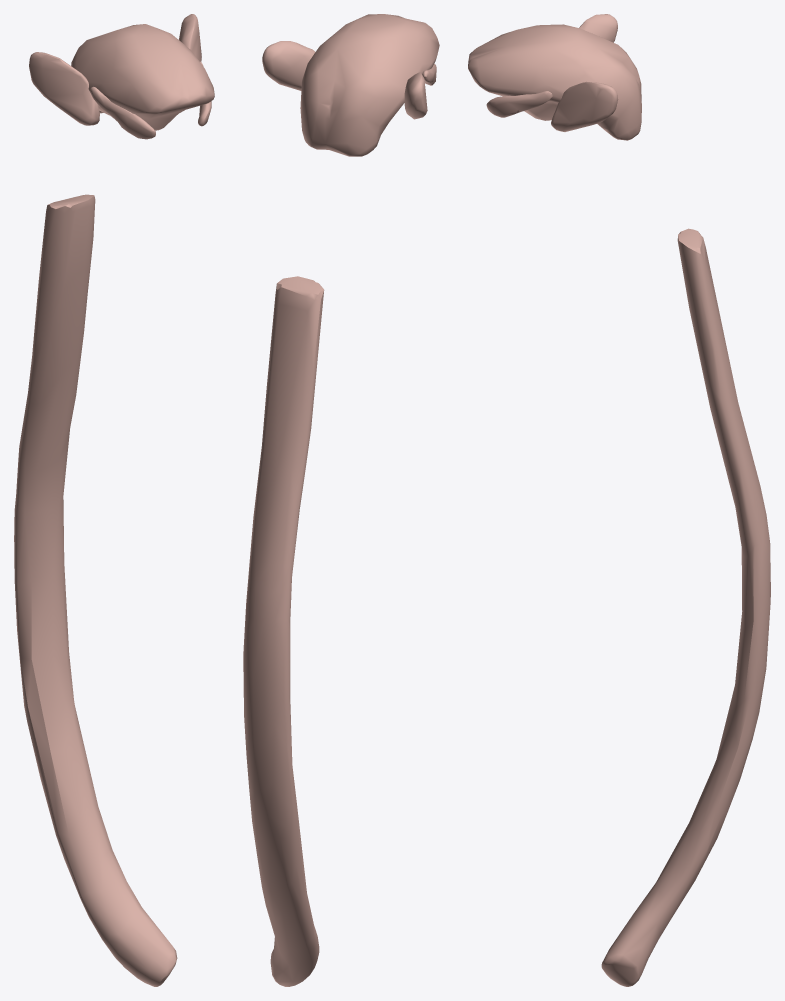
The model's file is upper.glb.
The picture shows the model from 3 angles, left to right: view 1: azimuth 30°, elevation 25°; view 2: azimuth 150°, elevation 25°; view 3: azimuth 270°, elevation 25°; orthographic projection. The views are drawn at different scales.
Parts seen in each view (by area): view 1: bp3d_FMA7131_FJ2563, bp3d_FMA54640_FJ2761, bp3d_FMA59802_FJ2768, bp3d_FMA59804_FJ2767, bp3d_FMA59803_FJ2766; view 2: bp3d_FMA7131_FJ2563, bp3d_FMA54640_FJ2761, bp3d_FMA59803_FJ2766, bp3d_FMA59802_FJ2768; view 3: bp3d_FMA7131_FJ2563, bp3d_FMA54640_FJ2761, bp3d_FMA59803_FJ2766, bp3d_FMA59805_FJ2765, bp3d_FMA59802_FJ2768.
Part boxes in pixels (box(x1,y1,x2,y2)): bp3d_FMA7131_FJ2563: box(14, 194, 177, 986); bp3d_FMA54640_FJ2761: box(71, 24, 214, 130); bp3d_FMA59802_FJ2768: box(29, 52, 99, 125); bp3d_FMA59804_FJ2767: box(89, 86, 155, 139); bp3d_FMA59803_FJ2766: box(179, 14, 201, 61); bp3d_FMA7131_FJ2563: box(243, 276, 324, 986); bp3d_FMA54640_FJ2761: box(300, 14, 439, 156); bp3d_FMA59803_FJ2766: box(262, 41, 315, 90); bp3d_FMA59802_FJ2768: box(404, 72, 427, 119); bp3d_FMA7131_FJ2563: box(601, 228, 770, 986); bp3d_FMA54640_FJ2761: box(468, 24, 641, 140); bp3d_FMA59803_FJ2766: box(551, 81, 618, 131); bp3d_FMA59805_FJ2765: box(486, 91, 552, 117); bp3d_FMA59802_FJ2768: box(579, 14, 617, 42).
Bounding box in the file's own units: 0.0618 × 0.3513 × 0.1035.
